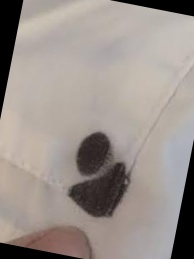ink: (64, 158, 127, 223), (74, 131, 110, 177)
